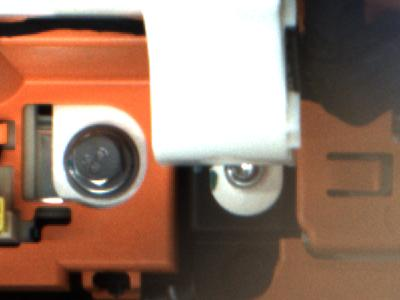nut_b: (60, 122, 139, 198)
